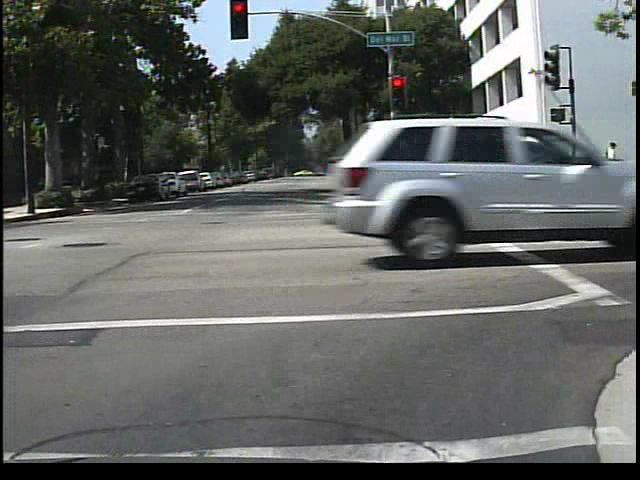person: (597, 134, 624, 200)
